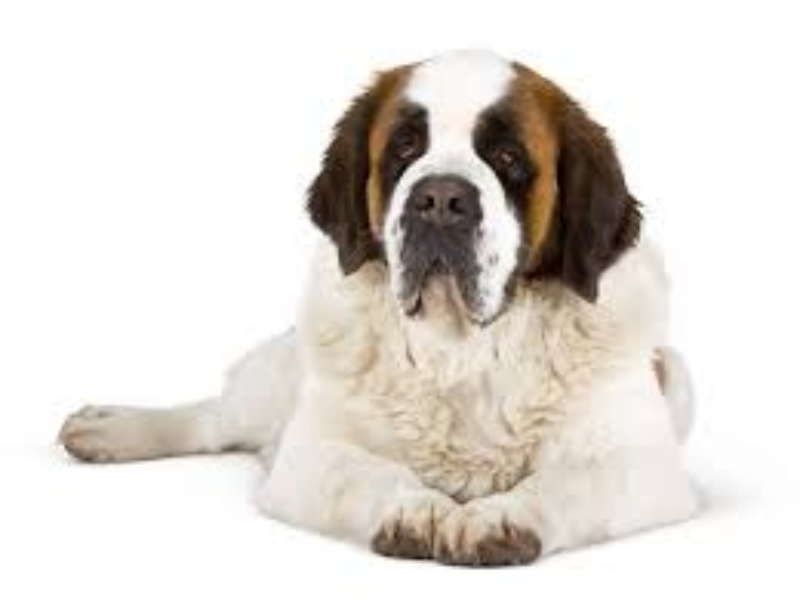dog: (39, 20, 751, 565)
